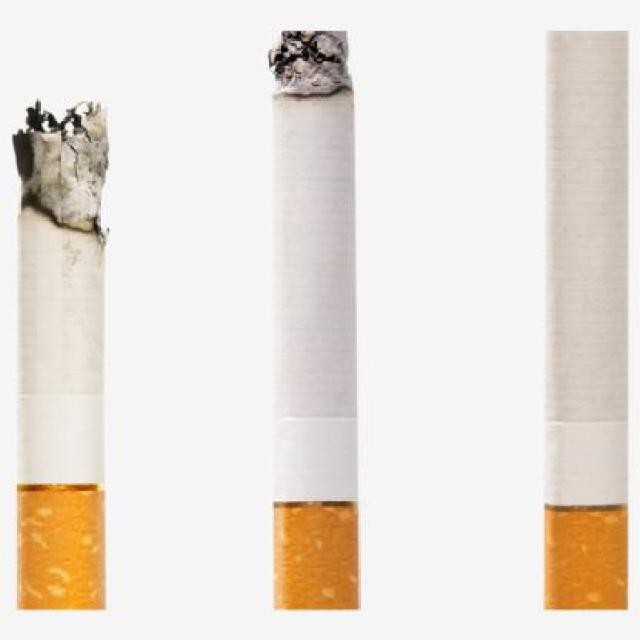cigarette: (251, 21, 363, 607), (541, 21, 639, 618), (8, 85, 102, 613)
